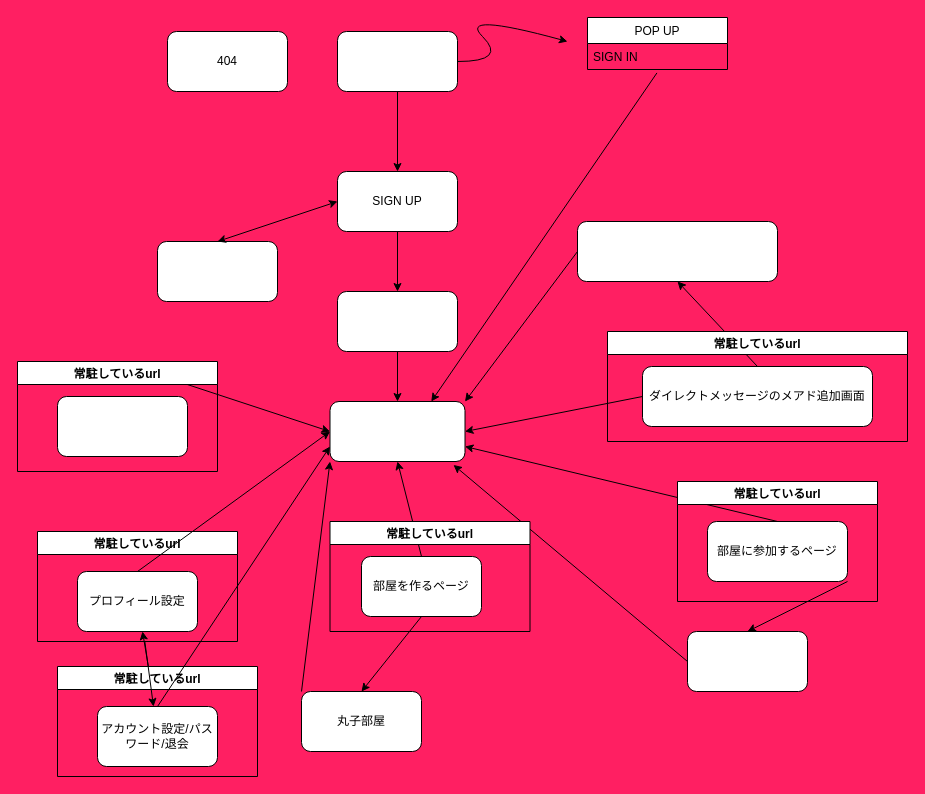
Image size: 925x794. Some labels were removed from this diagram. Here are the shapes that lost their labels. From the top down, the box of each, then its label:
(336, 30, 458, 92): アプリ説明画面
(156, 240, 278, 302): 利用規約
(576, 220, 778, 282): ダイレクトメッセージ画面
(336, 290, 458, 352): プロフィールセットアップ
(56, 396, 188, 456): 使い方チュートリアル
(329, 400, 465, 462): HOME
(686, 630, 808, 692): 他のuerが作った部屋
